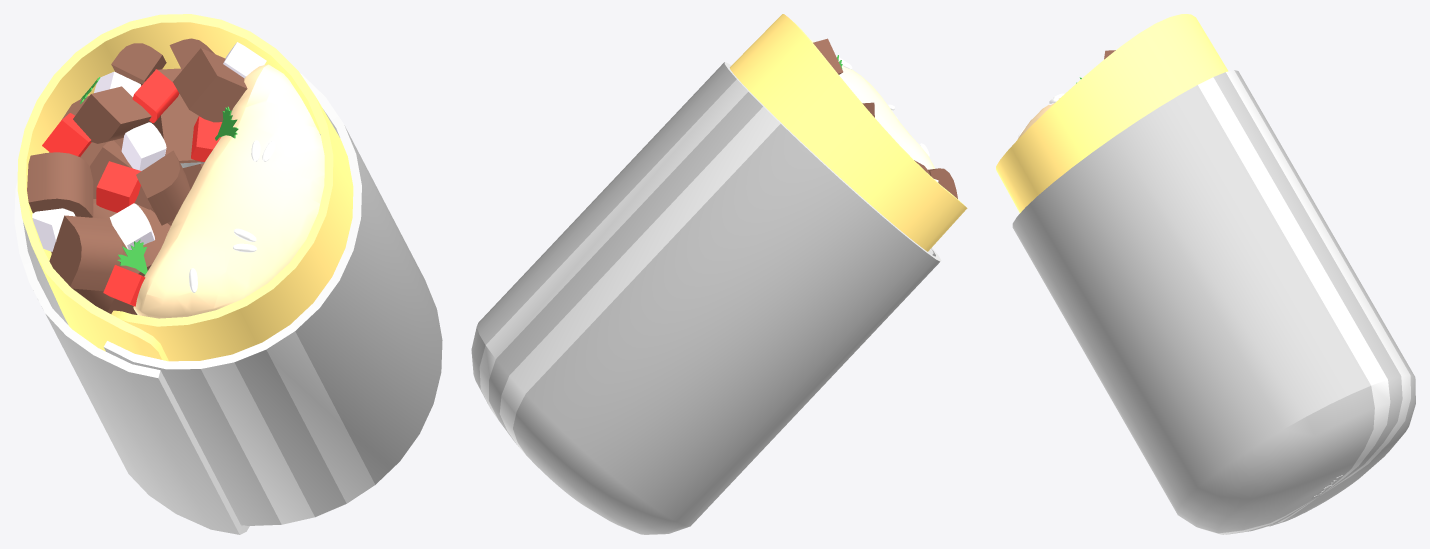
File: burrito.glb
3 views of the same model, side by side, from view 1: azimuth 30°, elevation 25°; view 2: azimuth 150°, elevation 25°; view 3: azimuth 270°, elevation 25° (orthographic). The views are drawn at different scales.
Visible parts, largest first — view 1: Circle.2212; view 2: Circle.2212; view 3: Circle.2212.
Part boxes in pixels (<box>): Circle.2212: <box>14,14,442,534</box>; Circle.2212: <box>471,14,967,534</box>; Circle.2212: <box>996,14,1415,534</box>.
Size of the model in its own units: 1.99 by 2.33 by 1.94.
Materials: 1 (1 with a texture image).
